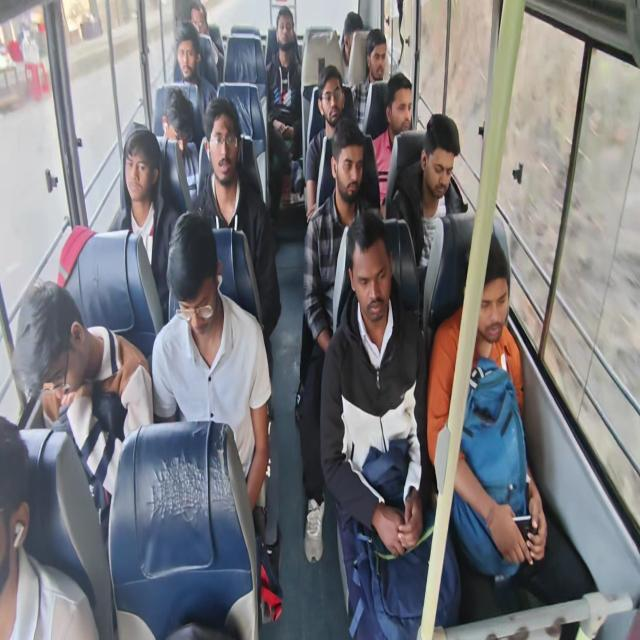person: (23, 308, 88, 398), (165, 244, 221, 339), (468, 256, 520, 351), (346, 240, 394, 324), (326, 142, 361, 201), (424, 128, 453, 196), (208, 128, 238, 190), (121, 132, 151, 192), (165, 98, 192, 160), (387, 82, 414, 128), (267, 19, 299, 55), (320, 83, 345, 121), (366, 35, 388, 78), (173, 40, 193, 77), (188, 5, 207, 42), (342, 19, 358, 49)
